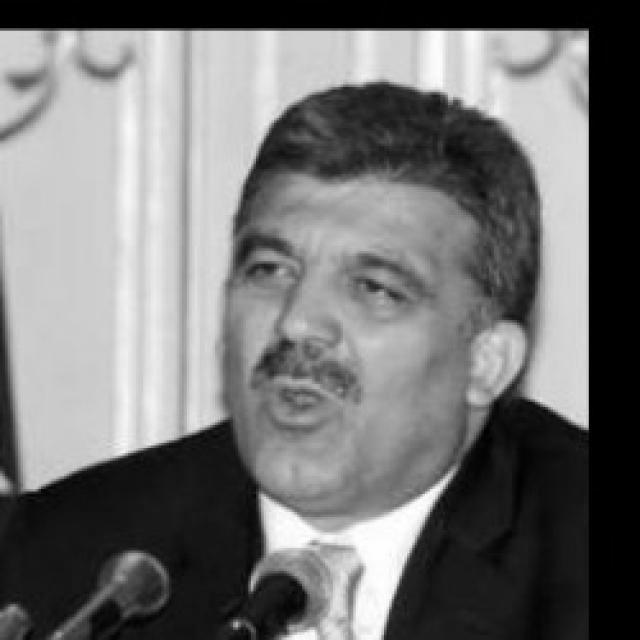real: (224, 169, 479, 515), (245, 240, 424, 315)
